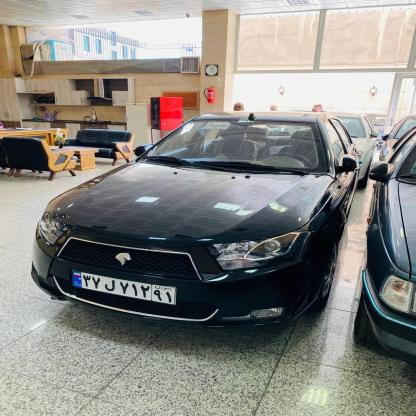Car: (22, 109, 345, 358), (348, 119, 416, 362)
